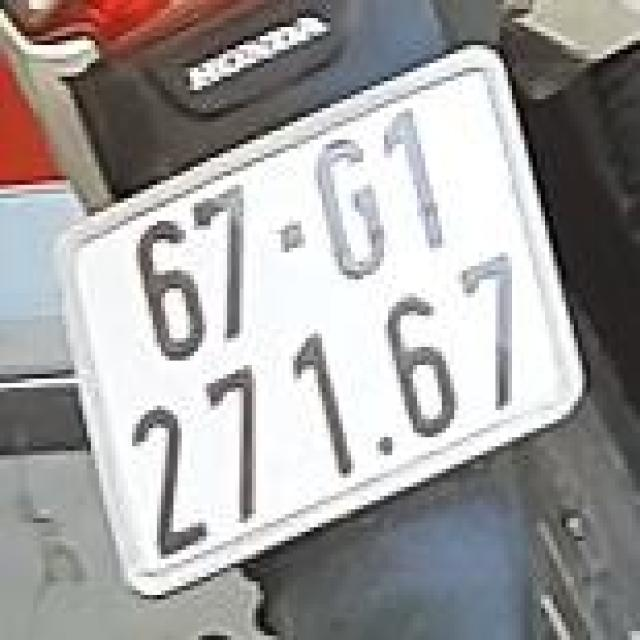1: (278, 319, 375, 492), (371, 92, 461, 267)
2: (121, 398, 222, 571)
6: (371, 276, 468, 453), (128, 204, 217, 373)
7: (448, 236, 545, 422), (187, 350, 284, 534), (177, 173, 273, 352)
G: (301, 128, 402, 296)
